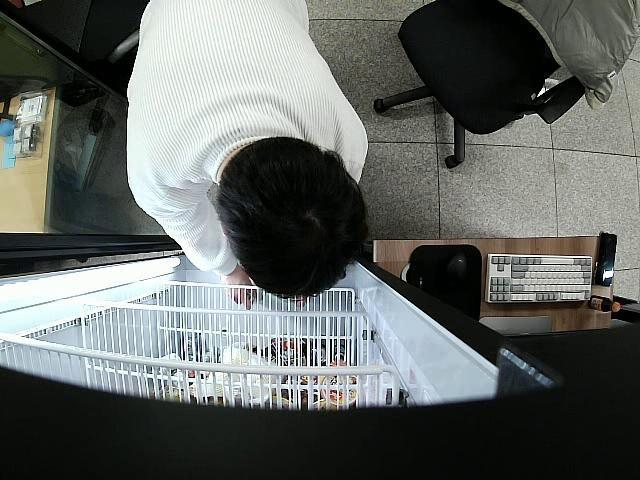18_trevi: (247, 288, 264, 304)
